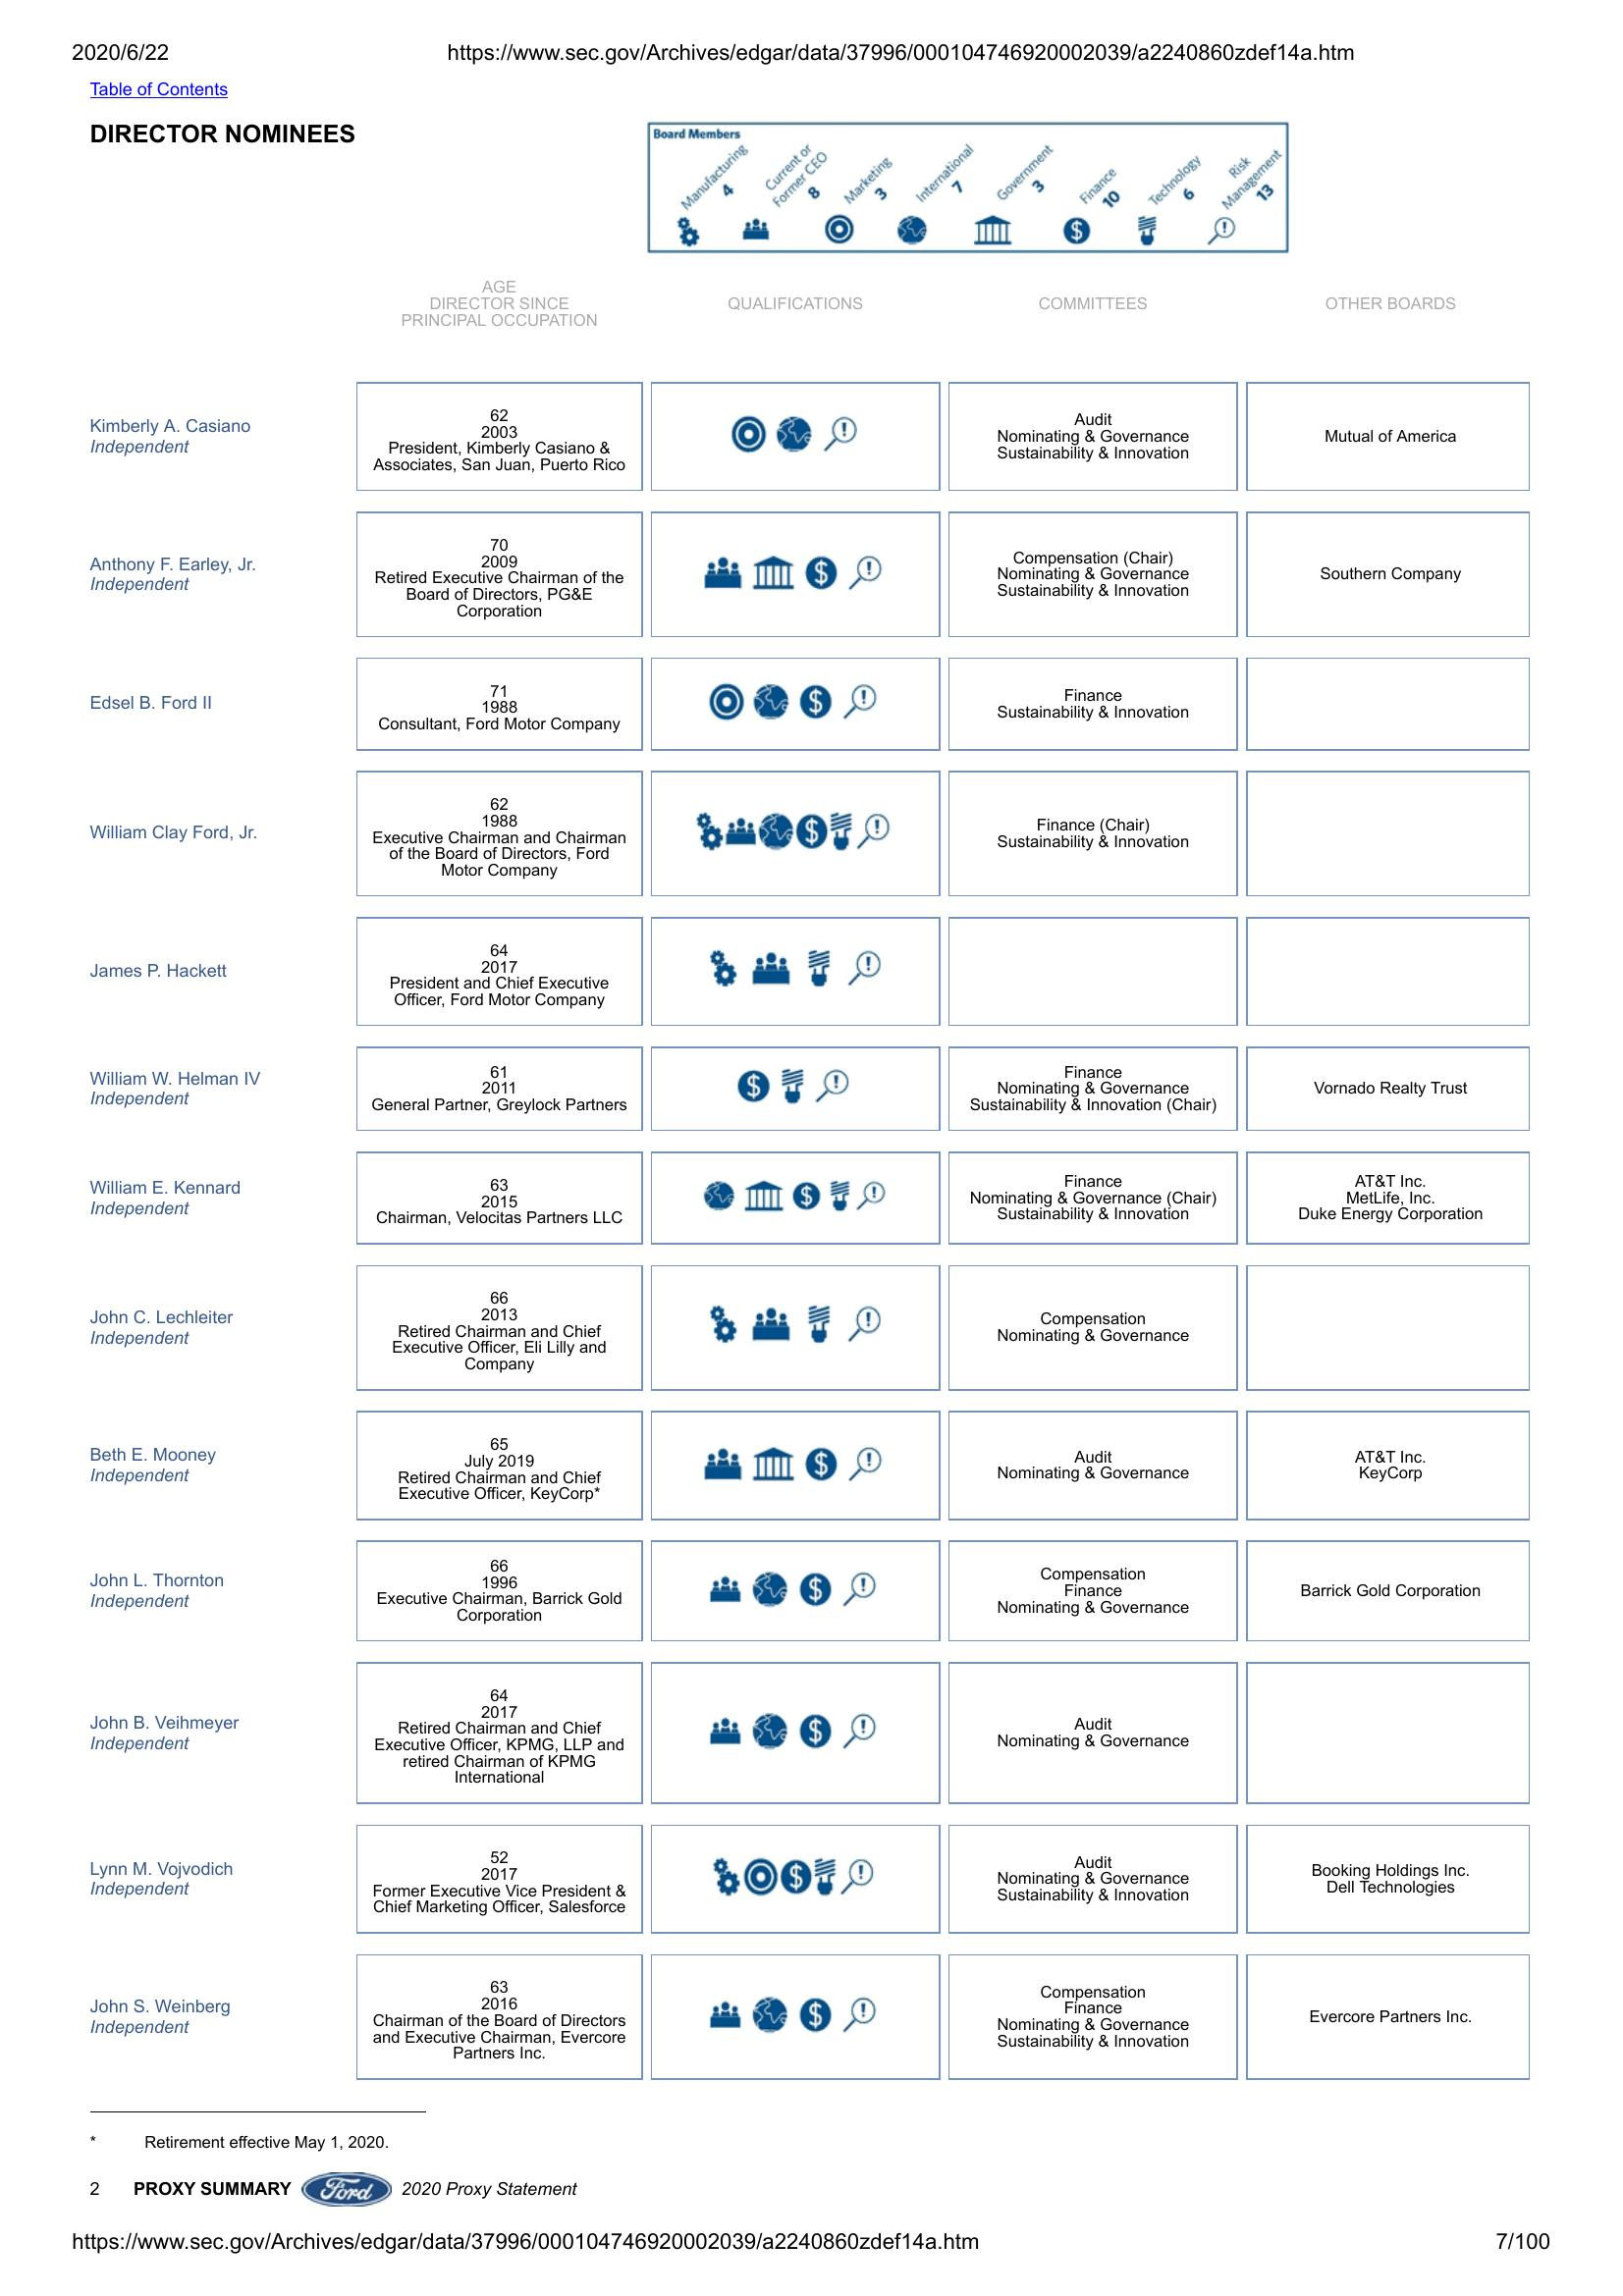table: (77, 374, 1547, 2098)
